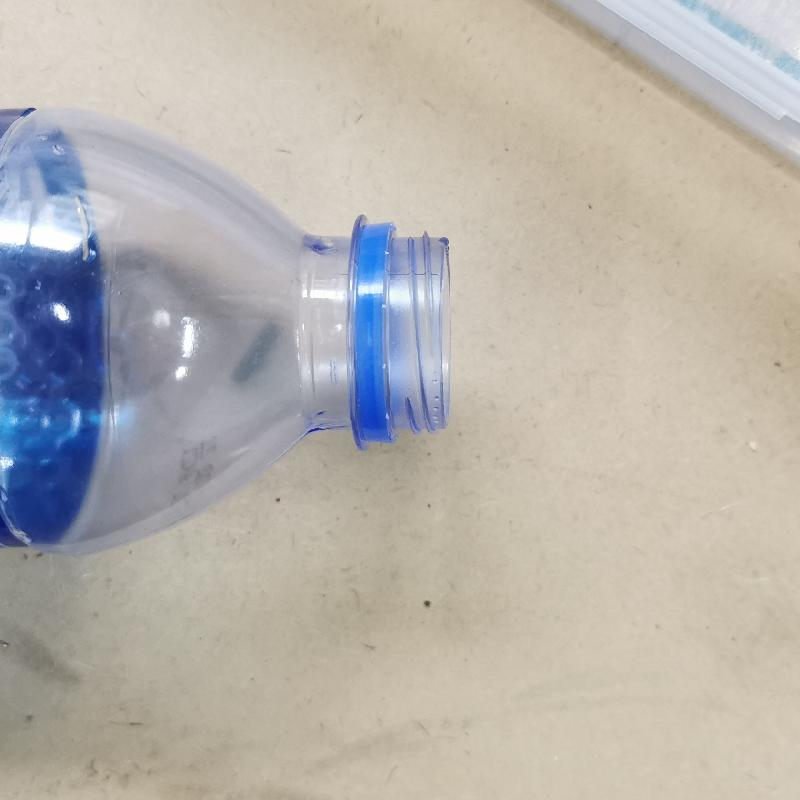bottles: (3, 91, 463, 570)
